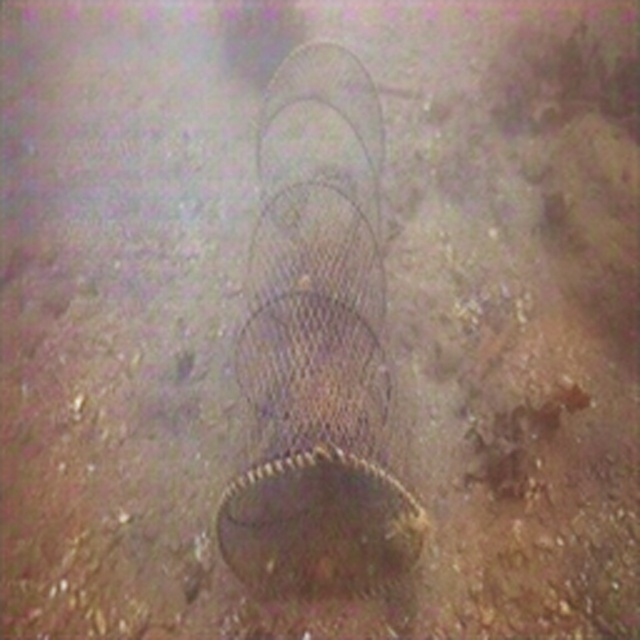mine: (213, 35, 424, 608)
